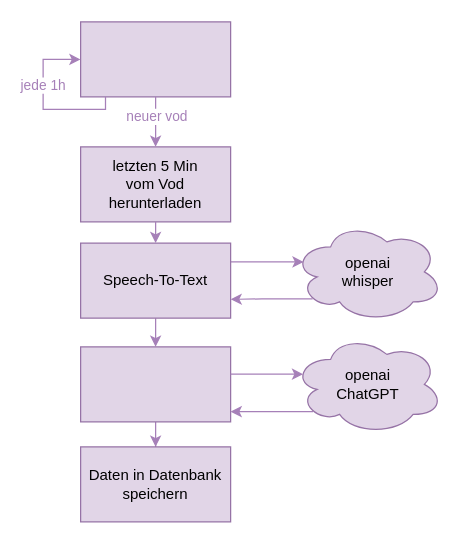
Some shapes in this 466 by 544 pixel diagram are drawn without their labels. Here are the shapes that lost their labels. From the top down, the box of each, then its label:
(79, 21, 231, 97): Nach neuen Vods schauen
(79, 346, 231, 422): Basierend auf dem Text herauslesen ob er Online kommt oder nicht
